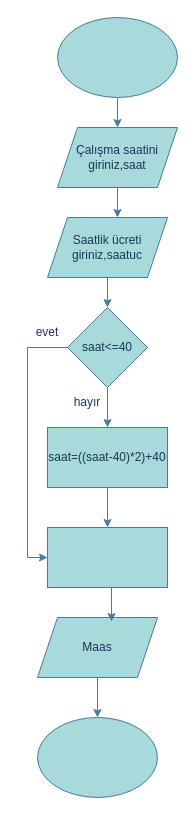
The diagram is 195 pixels wide and 815 high, and some of its shapes have lost their labels. Each missing label, with the box of its shape:
Başla: (56, 16, 178, 98)
Bitir: (36, 716, 158, 798)
Maas=saat*saatuc: (46, 526, 168, 588)
